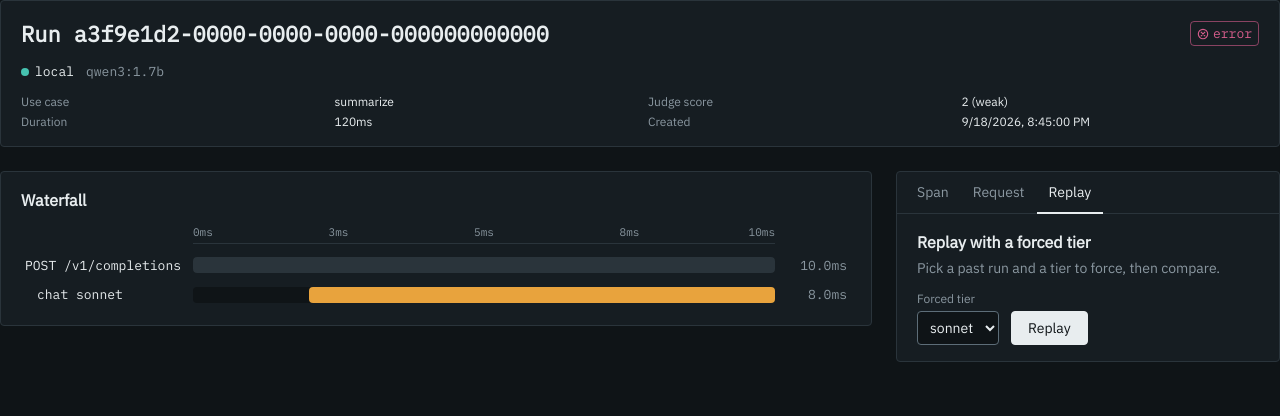
Test: RunWaterfallPage › trace view › shows the created time in local time with the UTC value in the tooltip, and flags an error run
The image size is (1280, 416).
Expected: the text "chat sonnet" is shown, [37,286,123,303]
Expected: the text "error" is shown, [1190,21,1259,46]
Click the tab "Request": (999, 192) [961,172,1036,214]
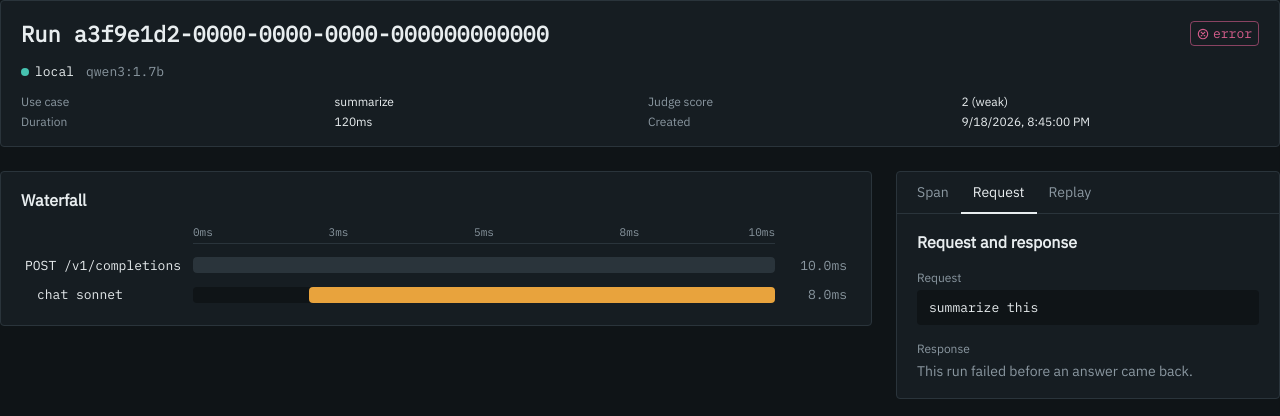
Result: the text "This run failed before an answer came back." is shown at [917,362,1193,380]
